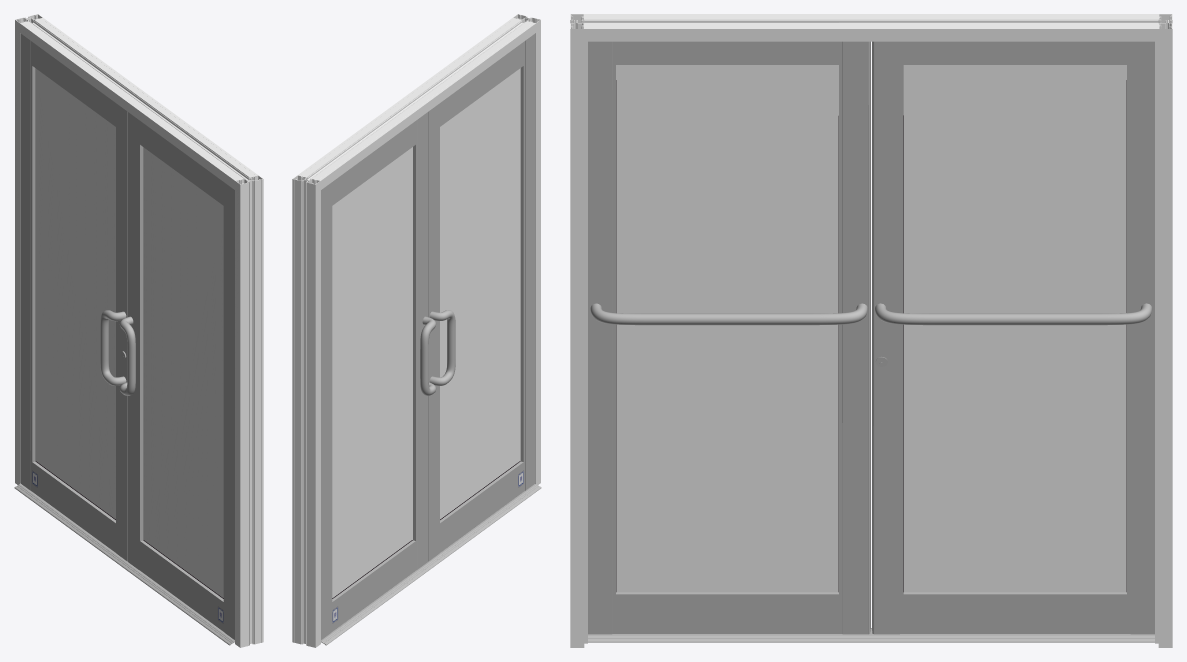
File: Framed_D350_Pair_Animated_AL.glb
3 renders of one model, left to right at view 1: azimuth 30°, elevation 25°; view 2: azimuth 150°, elevation 25°; view 3: azimuth 270°, elevation 25°, orthographic. The views are drawn at different scales.
Visible parts, largest first — view 1: D350.001, Cube.010, PROFILE_curve_.018, D350, PROFILE_curve_.019, PROFILE_curve_.063, PROFILE_curve_.014, PROFILE_curve_.008, PROFILE_curve_.023, PROFILE_curve_.062, PROFILE_curve_.016, PROFILE_curve_.061 (+2 smaller); view 2: D350.001, Cube.010, PROFILE_curve_.022, PROFILE_curve_.063, D350, PROFILE_curve_.023, PROFILE_curve_.014, PROFILE_curve_.008, PROFILE_curve_.019, PROFILE_curve_.062, PROFILE_curve_.016, PROFILE_curve_.061 (+2 smaller); view 3: D350.001, Cube.010, PROFILE_curve_.063, D350, PROFILE_curve_.008, PROFILE_curve_.023, PROFILE_curve_.019, PROFILE_curve_.062, PROFILE_curve_.014, PROFILE_curve_.061, PROFILE_curve_.016, NurbsPath.002 (+3 smaller).
Boxes of the visible parts, x1=… form: D350.001: x1=128, y1=112, x2=234, y2=639; Cube.010: x1=35, y1=68, x2=115, y2=519; PROFILE_curve_.018: x1=242, y1=179, x2=260, y2=647; D350: x1=20, y1=33, x2=35, y2=491; PROFILE_curve_.019: x1=235, y1=175, x2=263, y2=647; PROFILE_curve_.063: x1=116, y1=103, x2=127, y2=561; PROFILE_curve_.014: x1=23, y1=18, x2=255, y2=180; PROFILE_curve_.008: x1=20, y1=18, x2=257, y2=189; PROFILE_curve_.023: x1=15, y1=14, x2=42, y2=484; PROFILE_curve_.062: x1=32, y1=461, x2=115, y2=552; PROFILE_curve_.016: x1=14, y1=484, x2=234, y2=645; PROFILE_curve_.061: x1=32, y1=42, x2=115, y2=126; D350.001: x1=428, y1=33, x2=535, y2=561; Cube.010: x1=332, y1=147, x2=412, y2=597; PROFILE_curve_.022: x1=295, y1=179, x2=313, y2=647; PROFILE_curve_.063: x1=413, y1=112, x2=427, y2=570; D350: x1=321, y1=182, x2=332, y2=639; PROFILE_curve_.023: x1=292, y1=175, x2=320, y2=647; PROFILE_curve_.014: x1=300, y1=18, x2=532, y2=180; PROFILE_curve_.008: x1=298, y1=18, x2=535, y2=189; PROFILE_curve_.019: x1=513, y1=14, x2=540, y2=484; PROFILE_curve_.062: x1=332, y1=540, x2=415, y2=631; PROFILE_curve_.016: x1=321, y1=484, x2=541, y2=645; PROFILE_curve_.061: x1=332, y1=121, x2=415, y2=205; D350.001: x1=588, y1=41, x2=870, y2=634; Cube.010: x1=903, y1=65, x2=1126, y2=592; PROFILE_curve_.063: x1=872, y1=41, x2=903, y2=634; D350: x1=1127, y1=41, x2=1154, y2=634; PROFILE_curve_.008: x1=584, y1=14, x2=1158, y2=41; PROFILE_curve_.023: x1=1158, y1=14, x2=1172, y2=647; PROFILE_curve_.019: x1=570, y1=14, x2=584, y2=647; PROFILE_curve_.062: x1=903, y1=592, x2=1126, y2=633; PROFILE_curve_.014: x1=584, y1=15, x2=1158, y2=27; PROFILE_curve_.061: x1=903, y1=41, x2=1126, y2=64; PROFILE_curve_.016: x1=588, y1=628, x2=1154, y2=642; NurbsPath.002: x1=590, y1=303, x2=867, y2=325.
Bounding box in the file's own units: 0.2107 × 2.18 × 1.92.
Materials: 6 (1 with a texture image).
